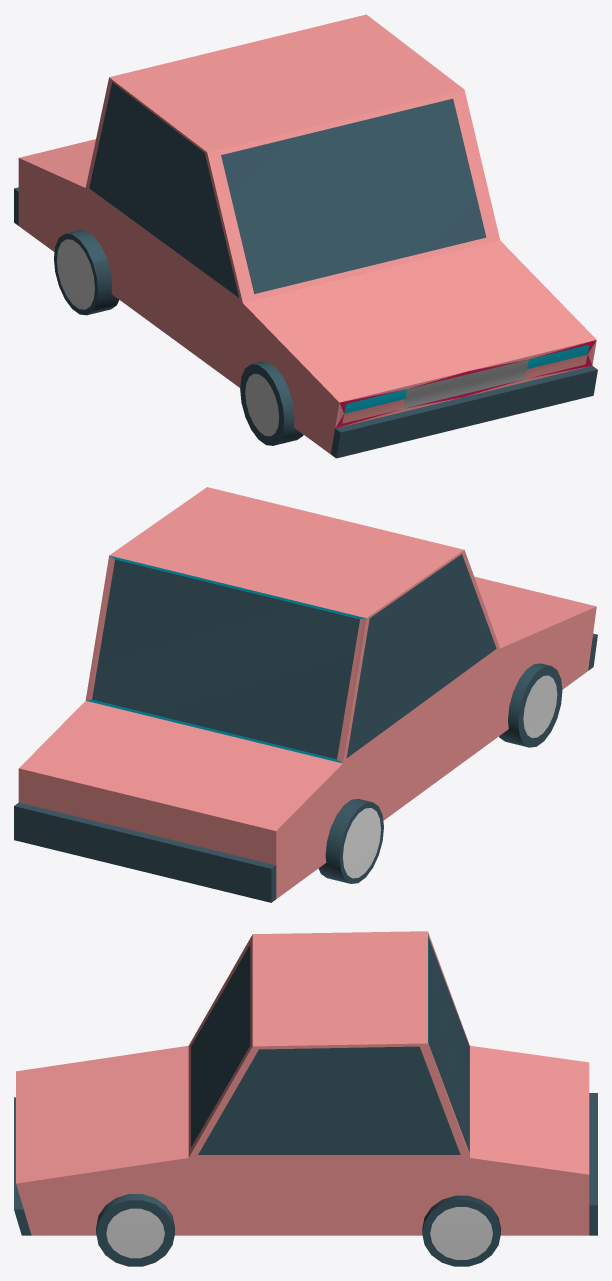
The model's file is Car_04_3.fbx.
3 views of the same model, one above another, from view 1: azimuth 30°, elevation 25°; view 2: azimuth 150°, elevation 25°; view 3: azimuth 270°, elevation 25° (orthographic). The views are drawn at different scales.
Parts seen in each view (by area): view 1: Car_04_3; view 2: Car_04_3; view 3: Car_04_3, Wheel.
Part boxes in pixels (bbox=[...]): Car_04_3: bbox=[14, 14, 597, 458]; Car_04_3: bbox=[14, 487, 597, 902]; Car_04_3: bbox=[14, 931, 597, 1266]; Wheel: bbox=[96, 1194, 174, 1266].
Bounding box in the file's own units: 74.44 × 60.93 × 147.
1 material, 1 textured.
